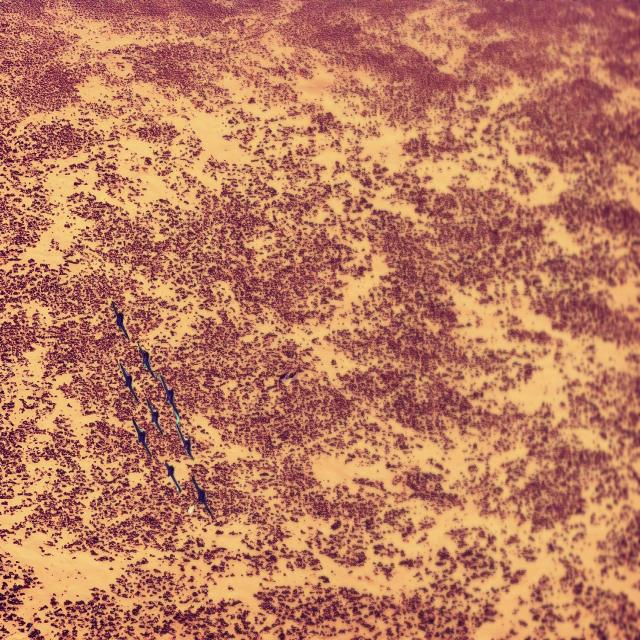airplane: (192, 476, 214, 518), (132, 414, 152, 457), (120, 361, 138, 402), (112, 300, 129, 342), (160, 375, 178, 413), (146, 394, 163, 433), (176, 423, 193, 459), (138, 343, 155, 378), (164, 460, 181, 490)
